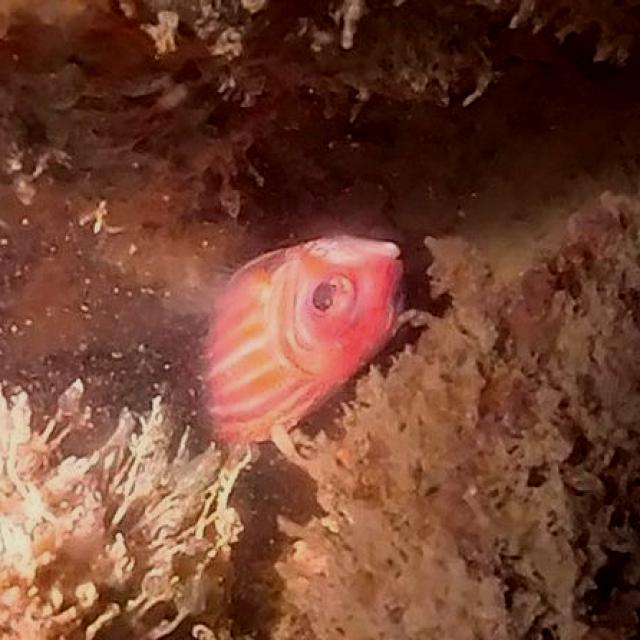Asker Baligi: (198, 234, 410, 452)
